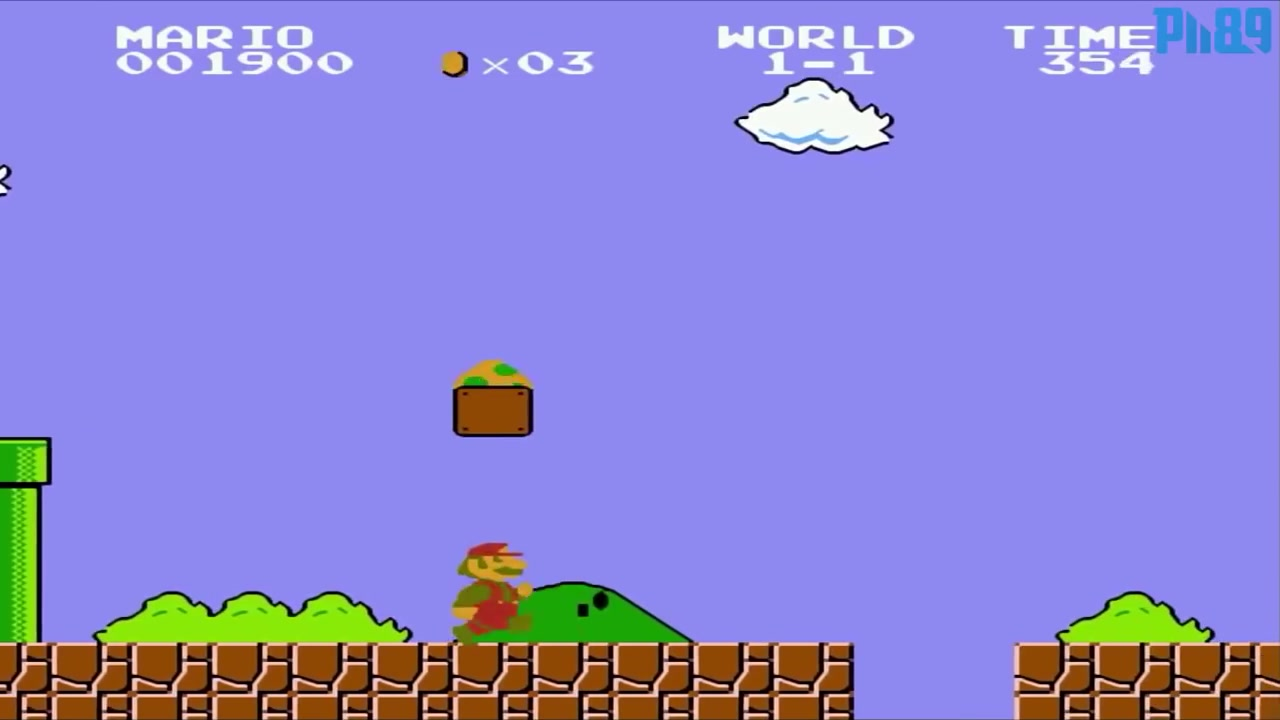mario: (449, 541, 539, 643)
